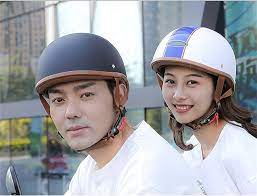helmets: (35, 32, 129, 106), (150, 25, 236, 91)
